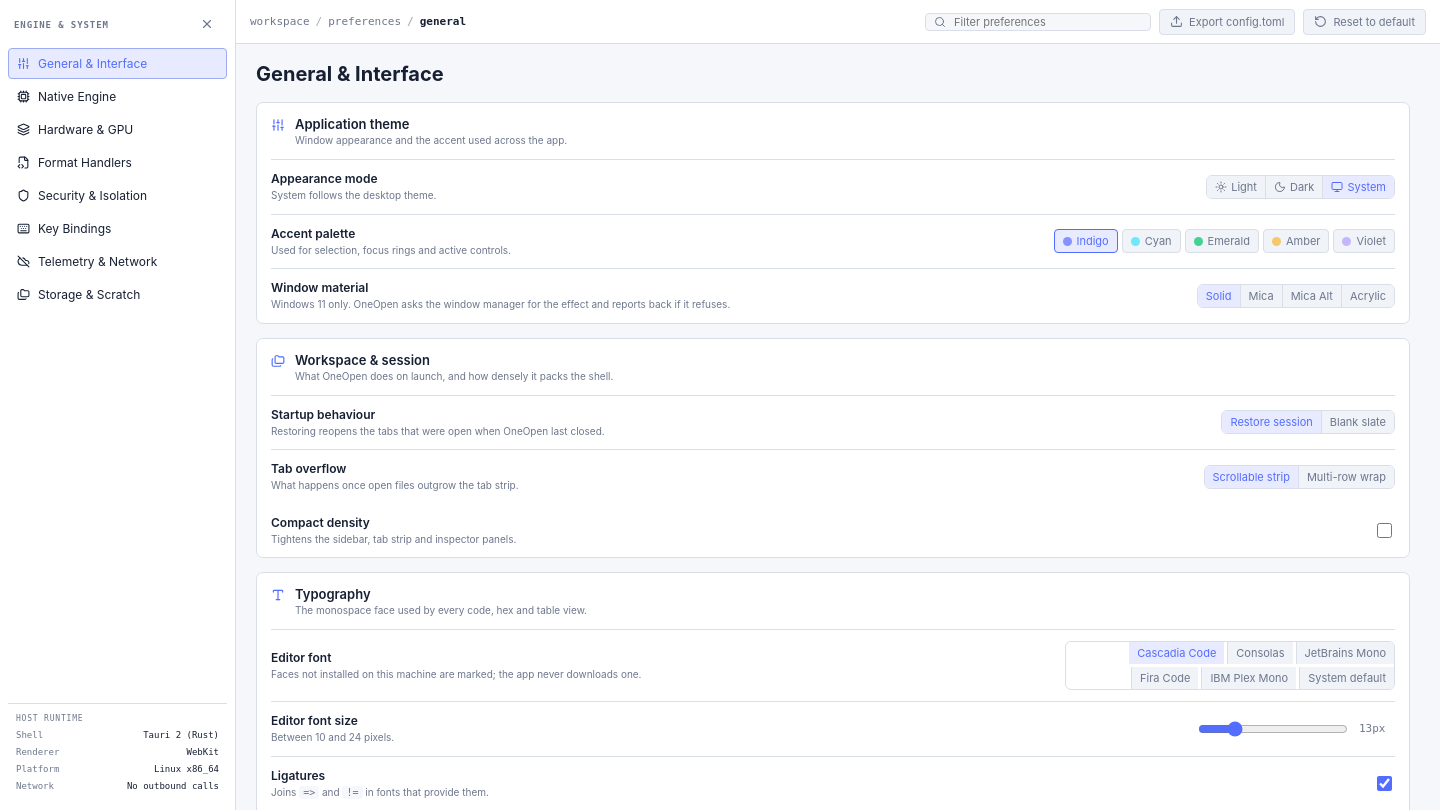
Test: settings page › filters the page down to the matching sections
Expected: the element named "Accent palette" is shown, 1054,229 -> 1395,253
Type "delimiter" into the field with placeholder "Filter preferences".
click(1047, 22); type("delimiter")  # box 952,14 -> 1142,30
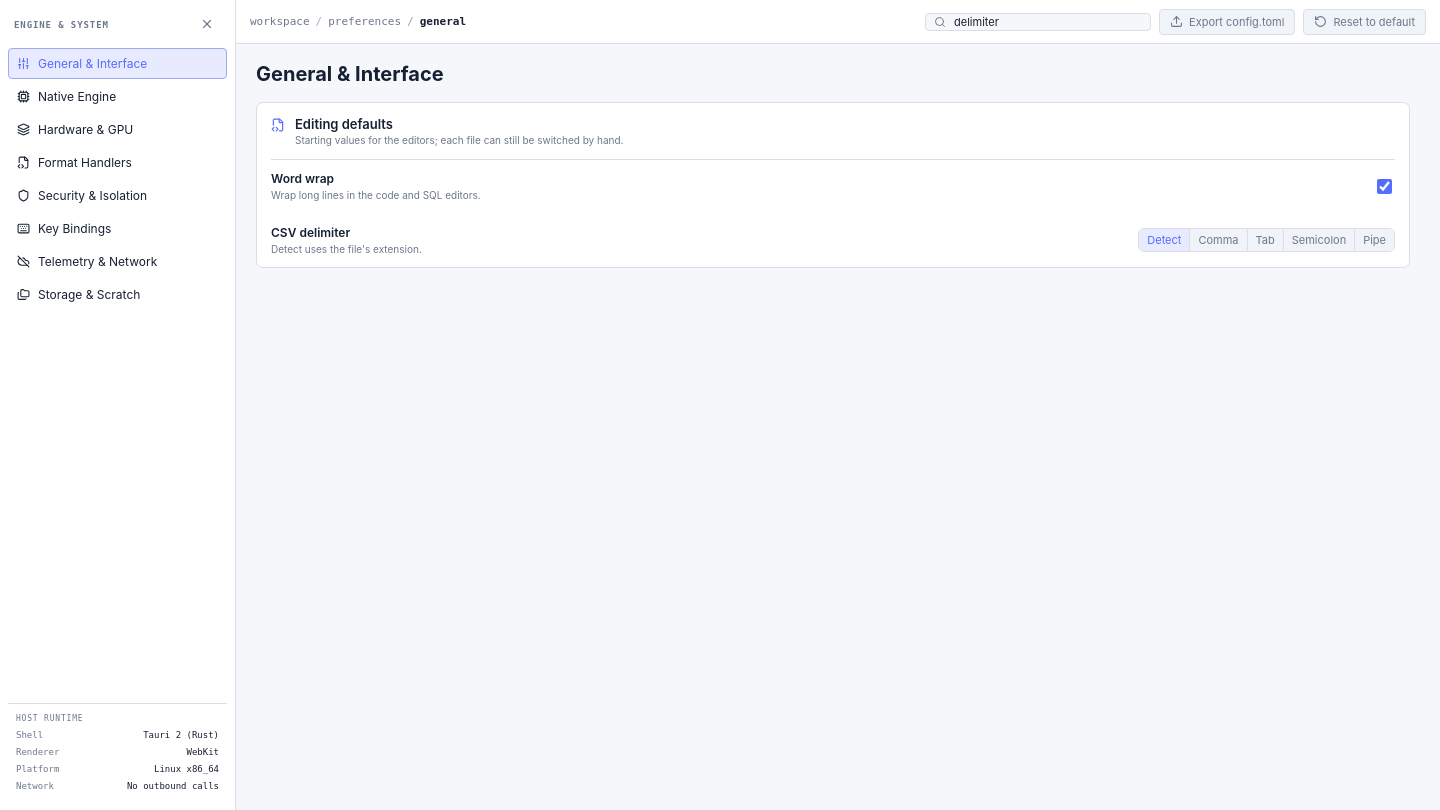
Expected: the text labelled "Accent palette" is gone
Expected: the element named "CSV delimiter" is shown, 1138,228 -> 1395,252
